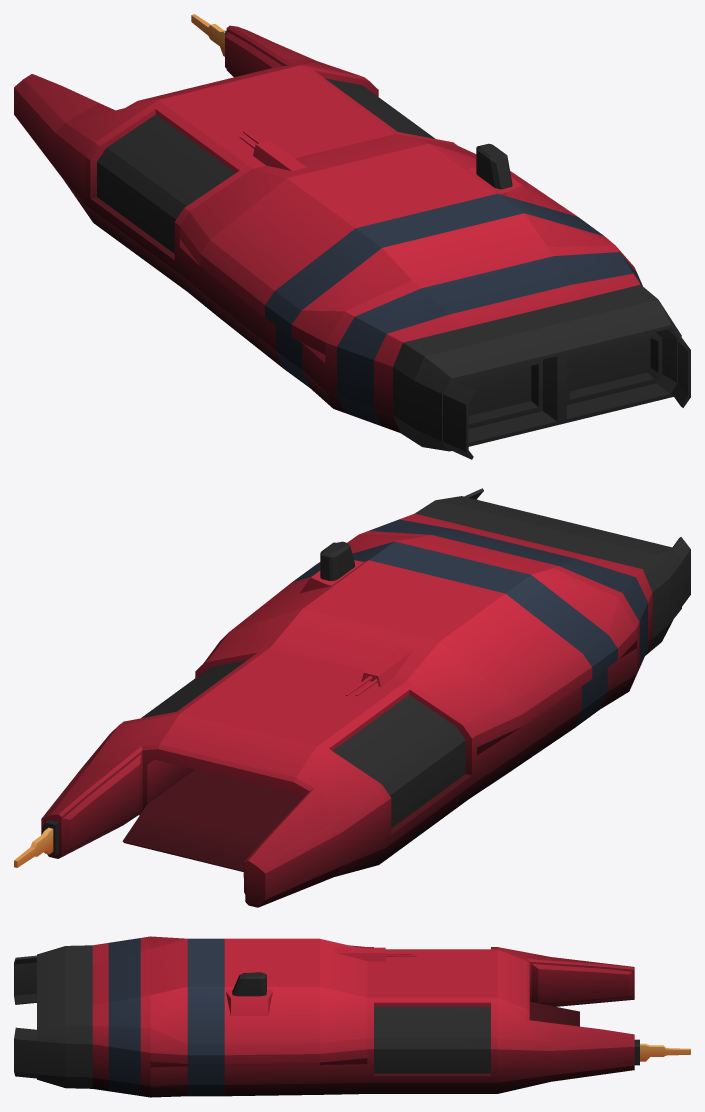
The model's file is carrier.glb.
The picture shows the model from 3 angles, top to bottom: view 1: azimuth 30°, elevation 25°; view 2: azimuth 150°, elevation 25°; view 3: azimuth 270°, elevation 25°; orthographic projection. The views are drawn at different scales.
Visible parts, largest first — view 1: Hull; view 2: Hull; view 3: Hull.
Boxes of the visible parts, x1,y1,x2,y2 form: Hull: (14,14,690,459); Hull: (14,488,690,907); Hull: (14,936,690,1097).
Size of what is drawn, in the model's own units: 36.21 by 15.88 by 94.83.
1 material, 1 textured.
